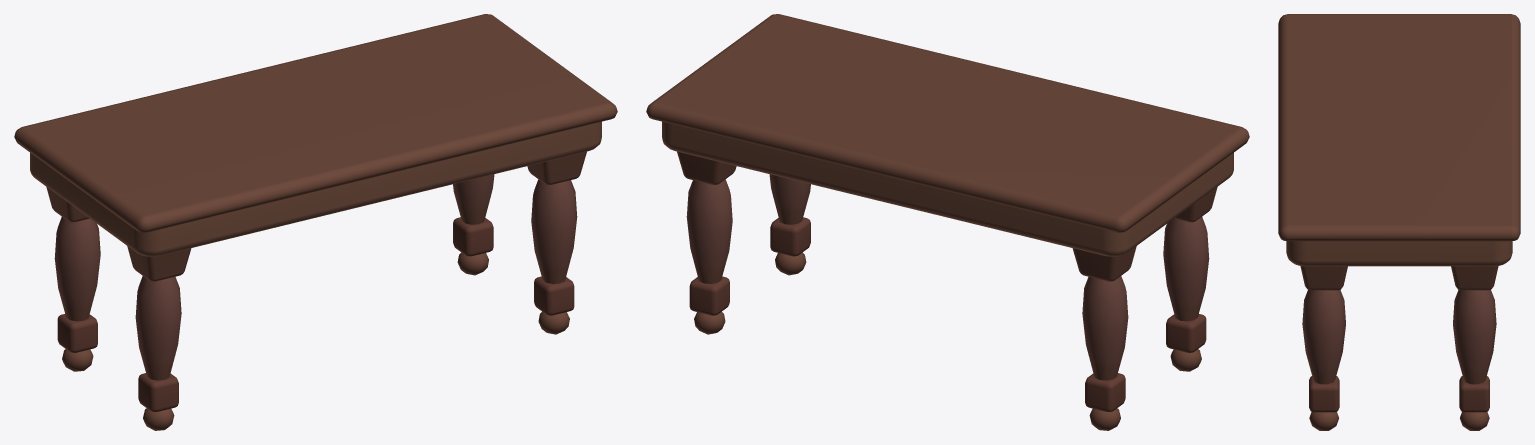
File: Kitchen_Table_09.glb
3 renders of one model, left to right at view 1: azimuth 30°, elevation 25°; view 2: azimuth 150°, elevation 25°; view 3: azimuth 270°, elevation 25°, orthographic. The views are drawn at different scales.
Parts seen in each view (by area): view 1: Kitchen_Table_09; view 2: Kitchen_Table_09; view 3: Kitchen_Table_09.
Boxes of the visible parts, x1,y1,x2,y2 form: Kitchen_Table_09: (14, 14, 617, 430); Kitchen_Table_09: (646, 14, 1249, 430); Kitchen_Table_09: (1278, 14, 1520, 430).
Bounding box in the file's own units: 1.6 × 0.7527 × 0.75.
Materials: 1 (1 with a texture image).
